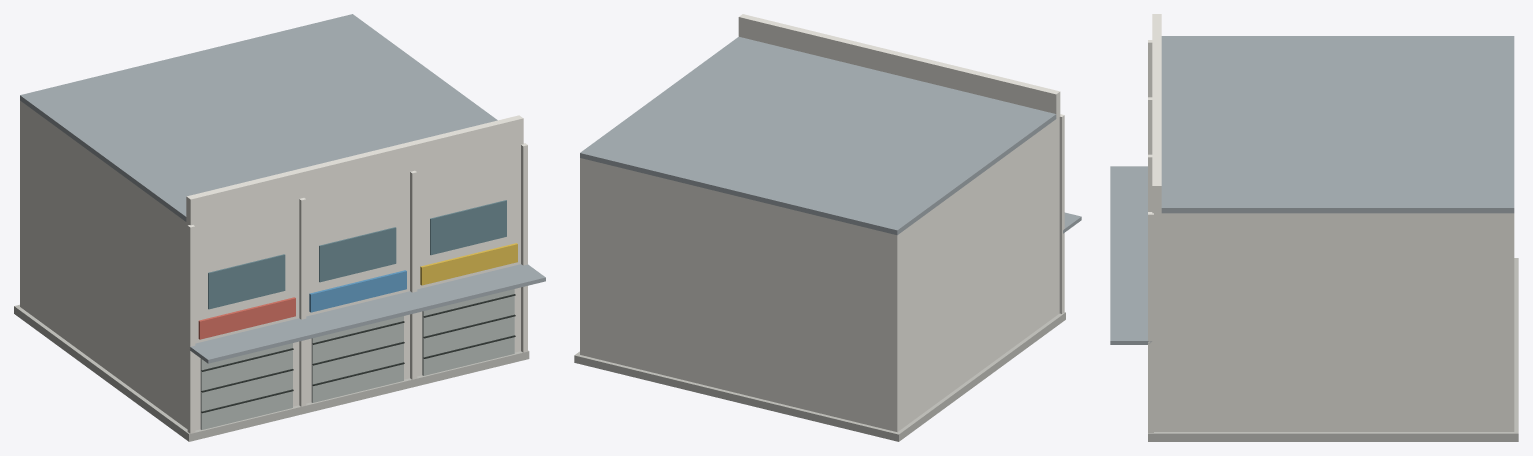
The model's file is shophouse.glb.
3 views of the same model, side by side, from view 1: azimuth 30°, elevation 25°; view 2: azimuth 150°, elevation 25°; view 3: azimuth 270°, elevation 25° (orthographic). The views are drawn at different scales.
Parts seen in each view (by area): view 1: walls, roof; view 2: walls, roof; view 3: walls, roof.
Part boxes in pixels (x1=…): walls: x1=14, y1=100, x2=545, y2=441; roof: x1=20, y1=14, x2=497, y2=221; walls: x1=574, y1=14, x2=1081, y2=441; roof: x1=580, y1=37, x2=1056, y2=235; walls: x1=1110, y1=14, x2=1518, y2=441; roof: x1=1161, y1=36, x2=1514, y2=213.
Bounding box in the file's own units: 13.8 × 9.3 × 13.55.
